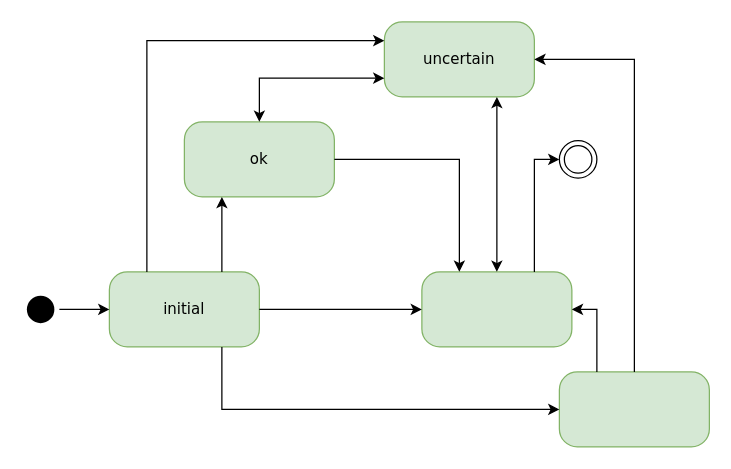
Some shapes in this 731 by 469 pixel diagram are drawn without their labels. Here are the shapes that lost their labels. From the top down, the centre of each, then its label:
(496,309): reboot
(633,409): error
